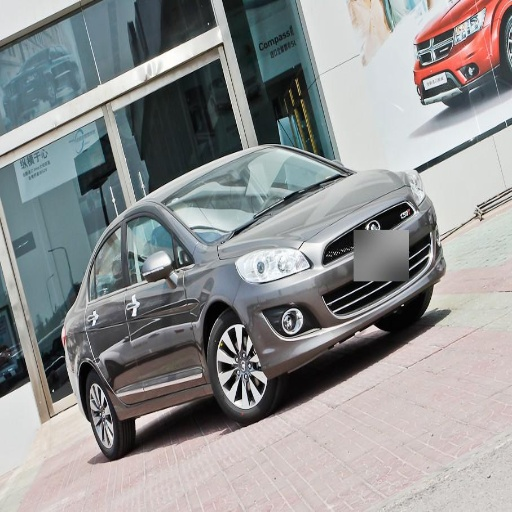front_bumper: (244, 194, 432, 370)
front_right_door: (127, 209, 192, 386)
